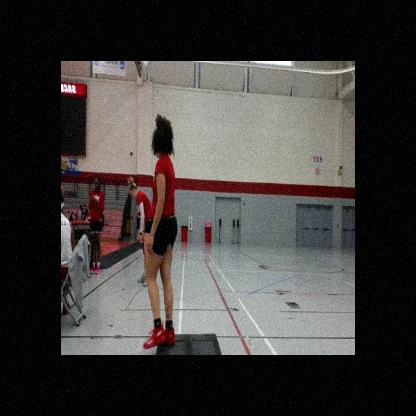lateral_flexion_normal: (140, 116, 177, 352)
stance_width_broad: (140, 156, 177, 350)
